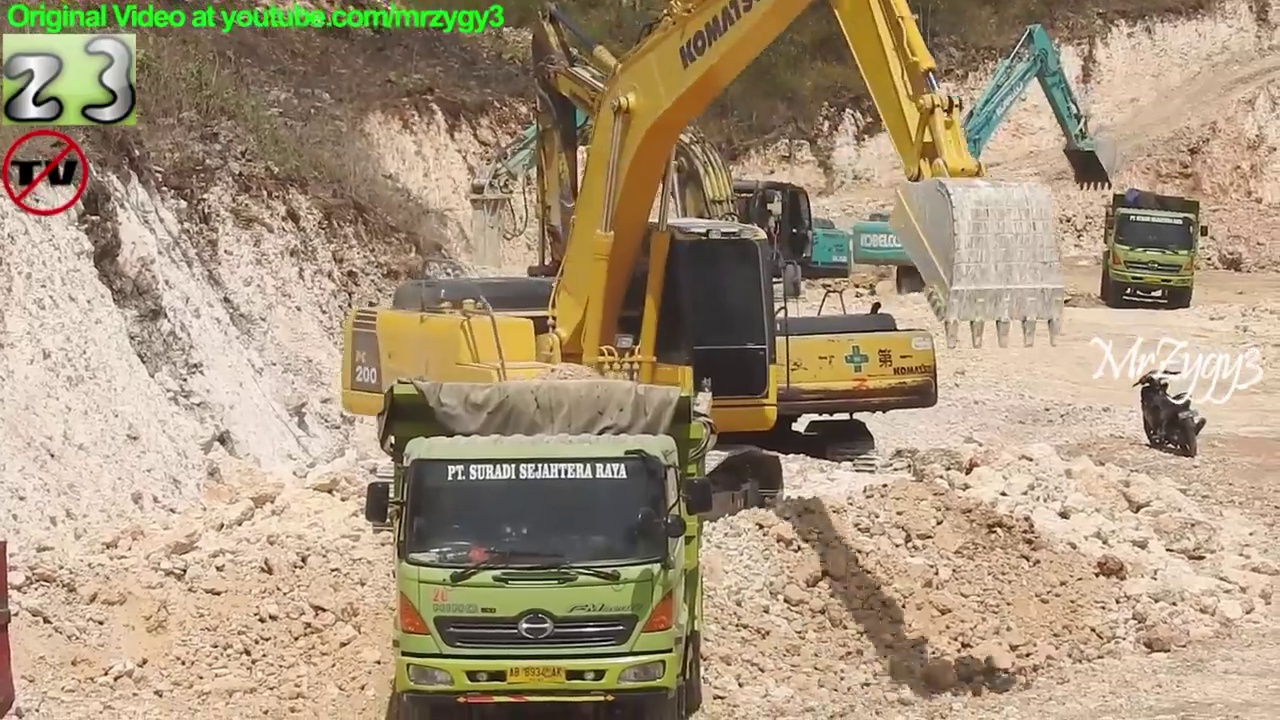excavator: (331, 1, 1072, 551), (515, 1, 947, 489), (460, 83, 861, 331), (847, 17, 1120, 302)
truck: (360, 372, 724, 720), (1098, 186, 1213, 312), (1, 534, 20, 720)
